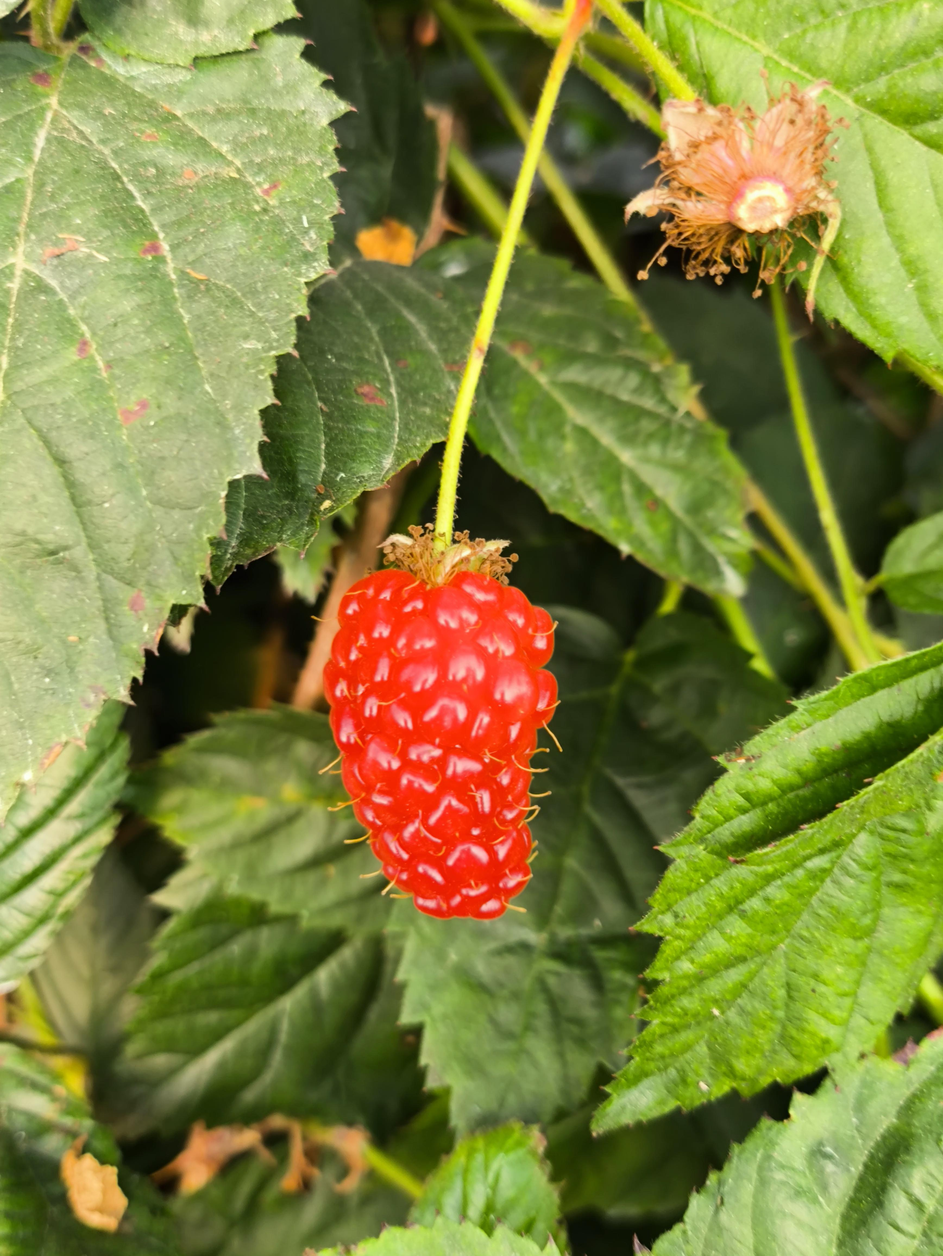naranja: (324, 528, 557, 921)
